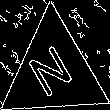N_SE: (26, 39, 81, 104)
